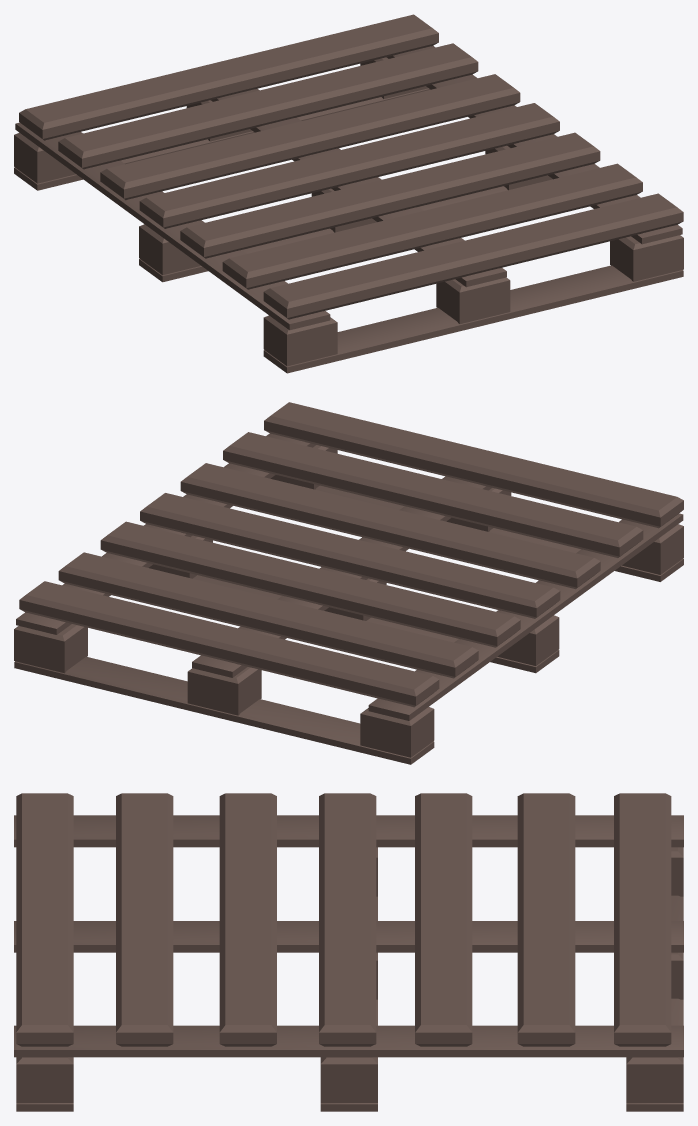
File: props_48.glb
The picture shows the model from 3 angles, top to bottom: view 1: azimuth 30°, elevation 25°; view 2: azimuth 150°, elevation 25°; view 3: azimuth 270°, elevation 25°; orthographic projection. The views are drawn at different scales.
Parts seen in each view (by area): view 1: props_48; view 2: props_48; view 3: props_48.
Boxes of the visible parts, bbox=[...] form: props_48: bbox=[14, 14, 683, 373]; props_48: bbox=[14, 402, 683, 764]; props_48: bbox=[14, 793, 683, 1111].
Size of the model in its own units: 2.4 by 0.4085 by 2.87.
1 material, 1 textured.
